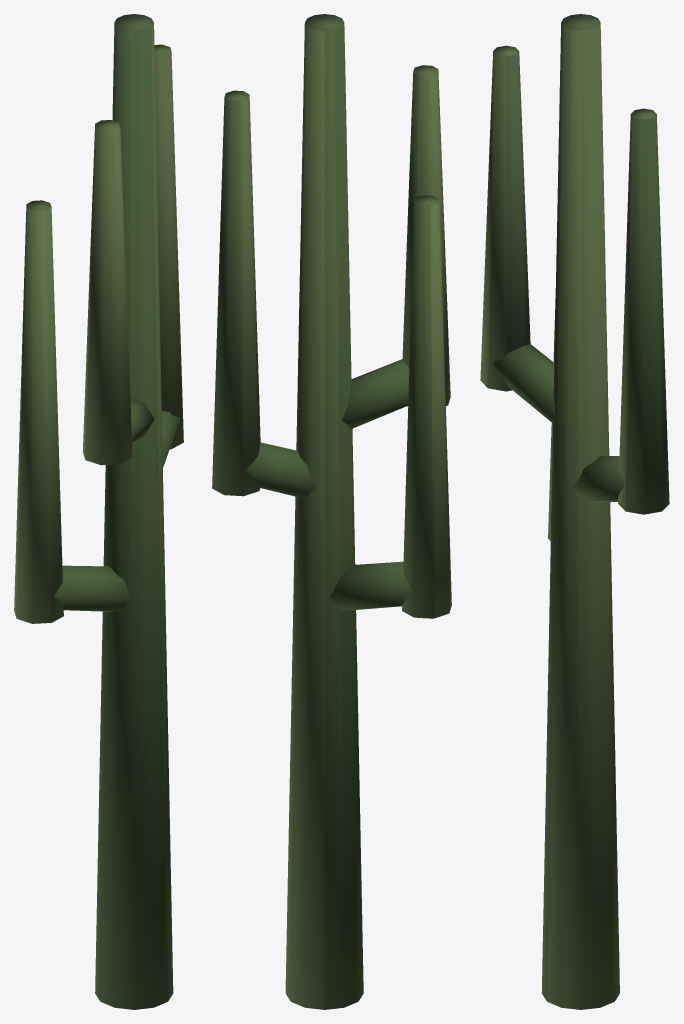
The model's file is env_saguaro_a.glb.
The picture shows the model from 3 angles, left to right: view 1: azimuth 30°, elevation 25°; view 2: azimuth 150°, elevation 25°; view 3: azimuth 270°, elevation 25°; orthographic projection.
Visible parts, largest first — view 1: env_saguaro_a; view 2: env_saguaro_a; view 3: env_saguaro_a.
Boxes of the visible parts, bbox=[...] form: env_saguaro_a: bbox=[14, 14, 183, 1009]; env_saguaro_a: bbox=[212, 14, 451, 1009]; env_saguaro_a: bbox=[480, 14, 669, 1009].
Size of the model in its own units: 2.01 by 9.32 by 1.64.
